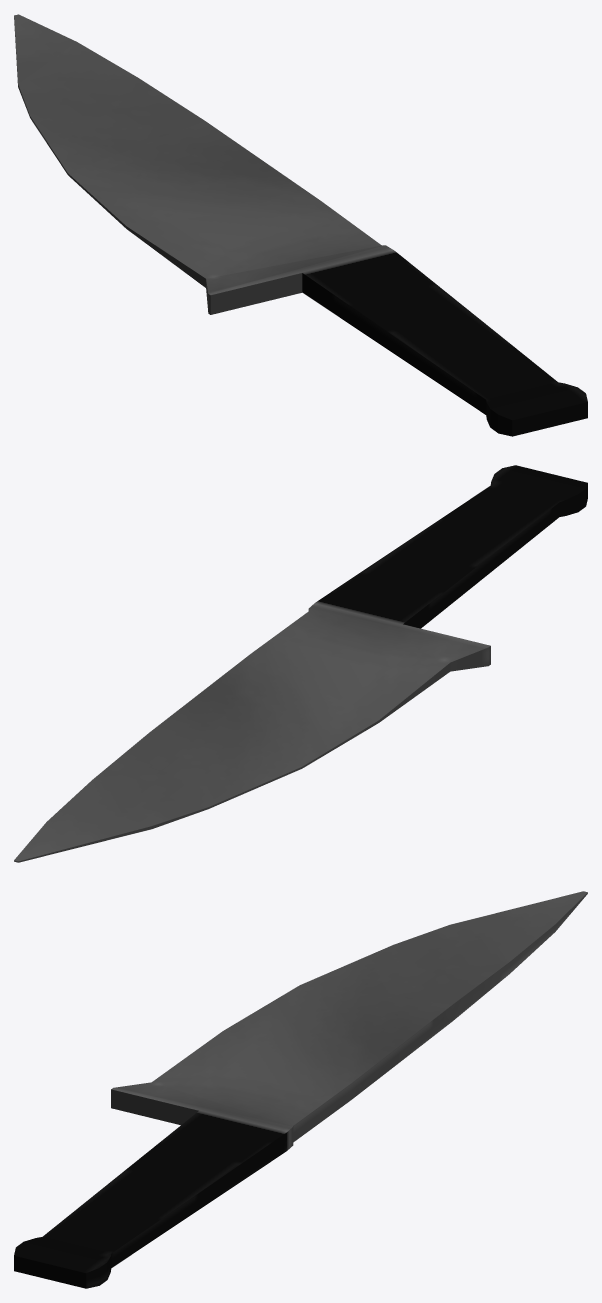
Rendered from knife.fbx.
3 views of the same model, one above another, from view 1: azimuth 30°, elevation 25°; view 2: azimuth 150°, elevation 25°; view 3: azimuth 330°, elevation 25° (orthographic). The views are drawn at different scales.
Parts seen in each view (by area): view 1: Plane; view 2: Plane; view 3: Plane.
Boxes of the visible parts, x1,y1,x2,y2 form: Plane: (14, 14, 587, 436); Plane: (14, 465, 587, 862); Plane: (14, 891, 587, 1288).
Size of the model in its own units: 8.41 by 0.8623 by 43.32.
